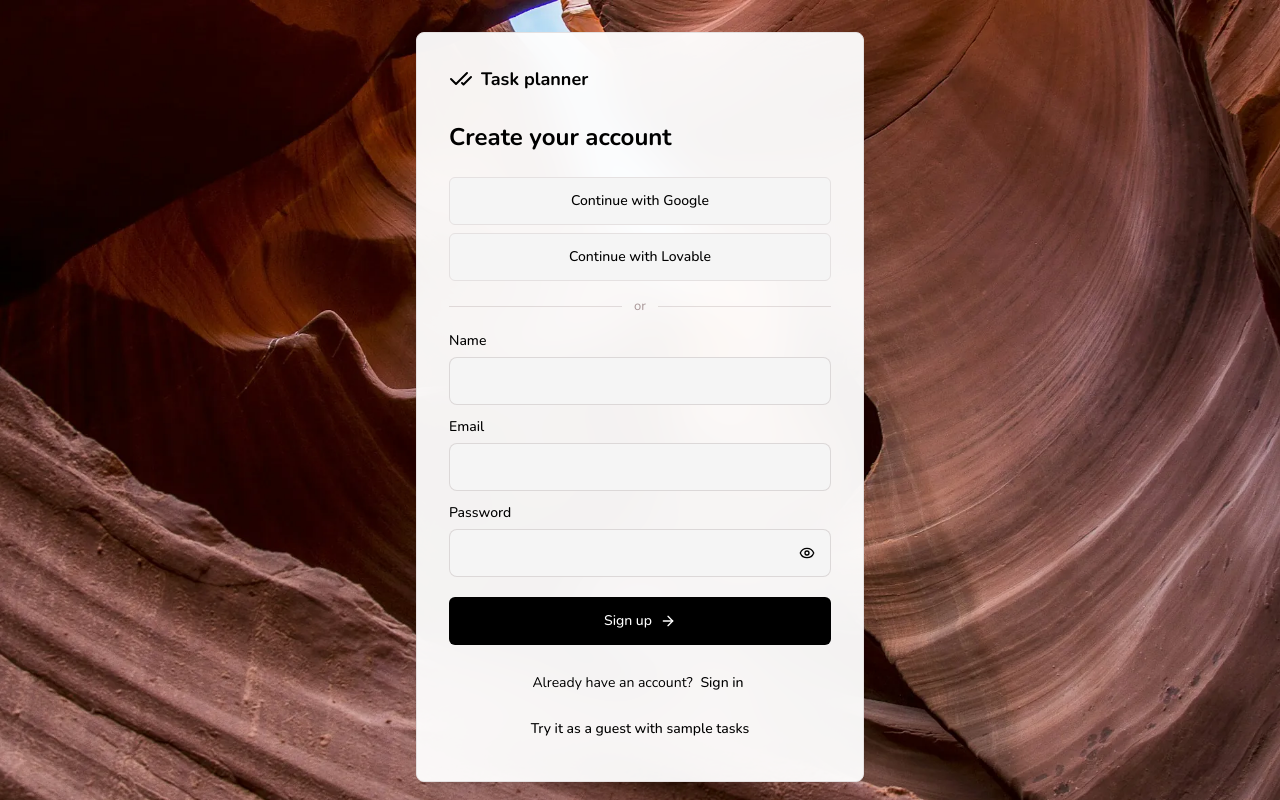
Scenario: account pages › registers a name and waits for email confirmation rather than signing in
Type "Alex" into the field labelled "Name" at (640, 381), box [449,357,831,405]
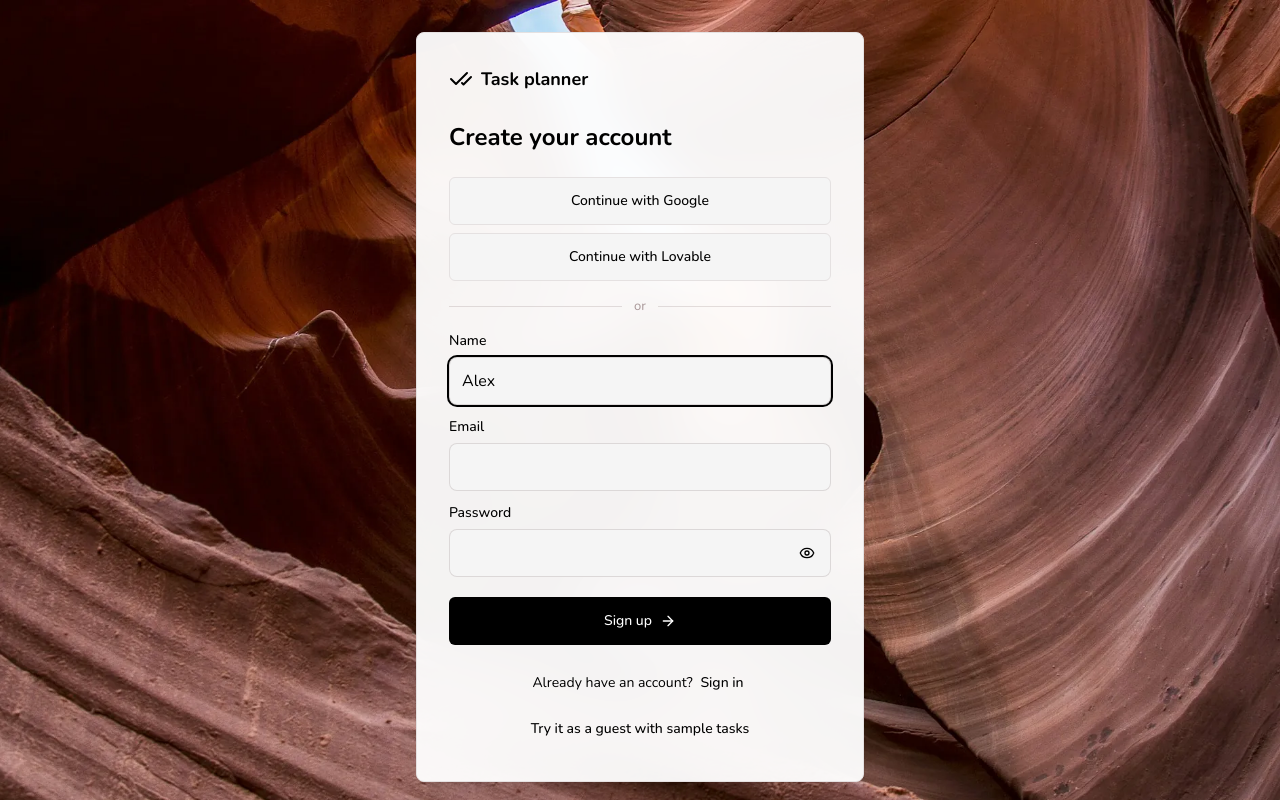
Type "alex@example.com" into the field labelled "Email" at (640, 467), box [449,443,831,491]
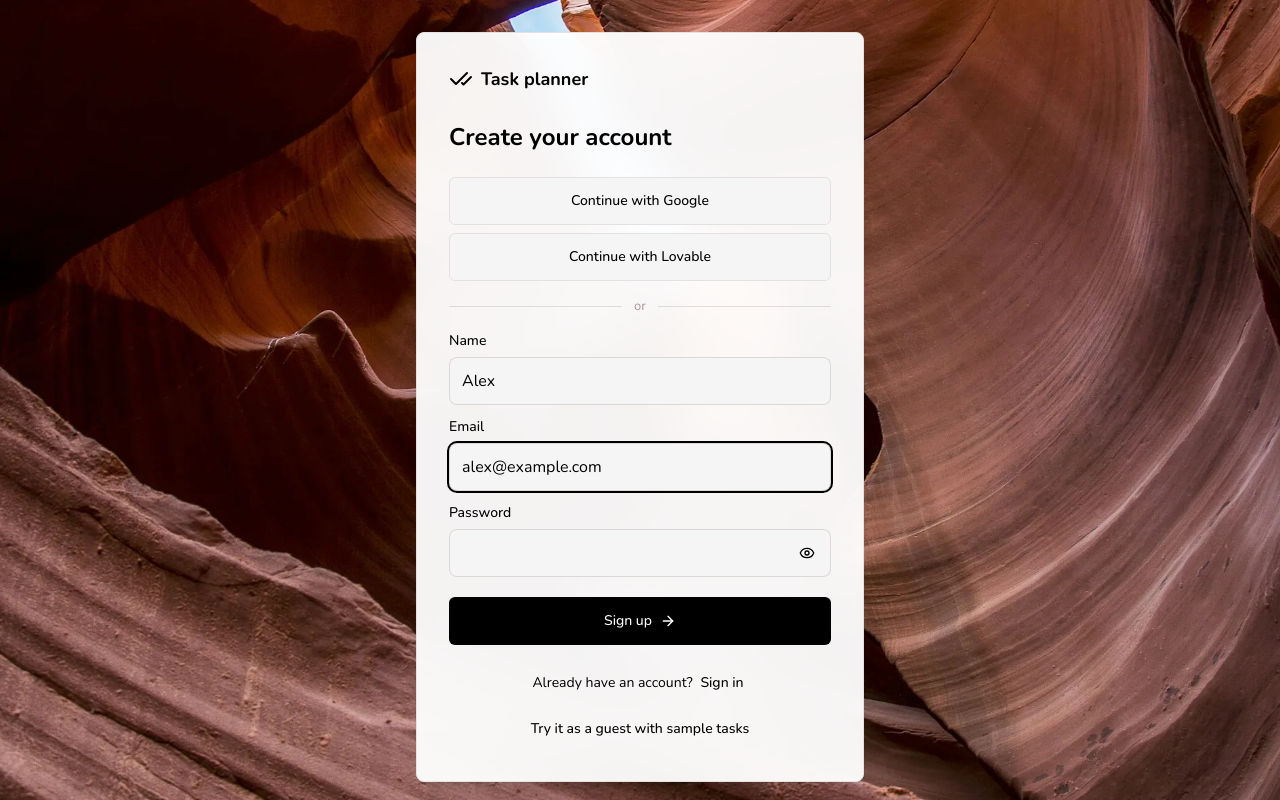
Type "secret123" into the password field labelled "Password" at (640, 553), box [449,529,831,577]
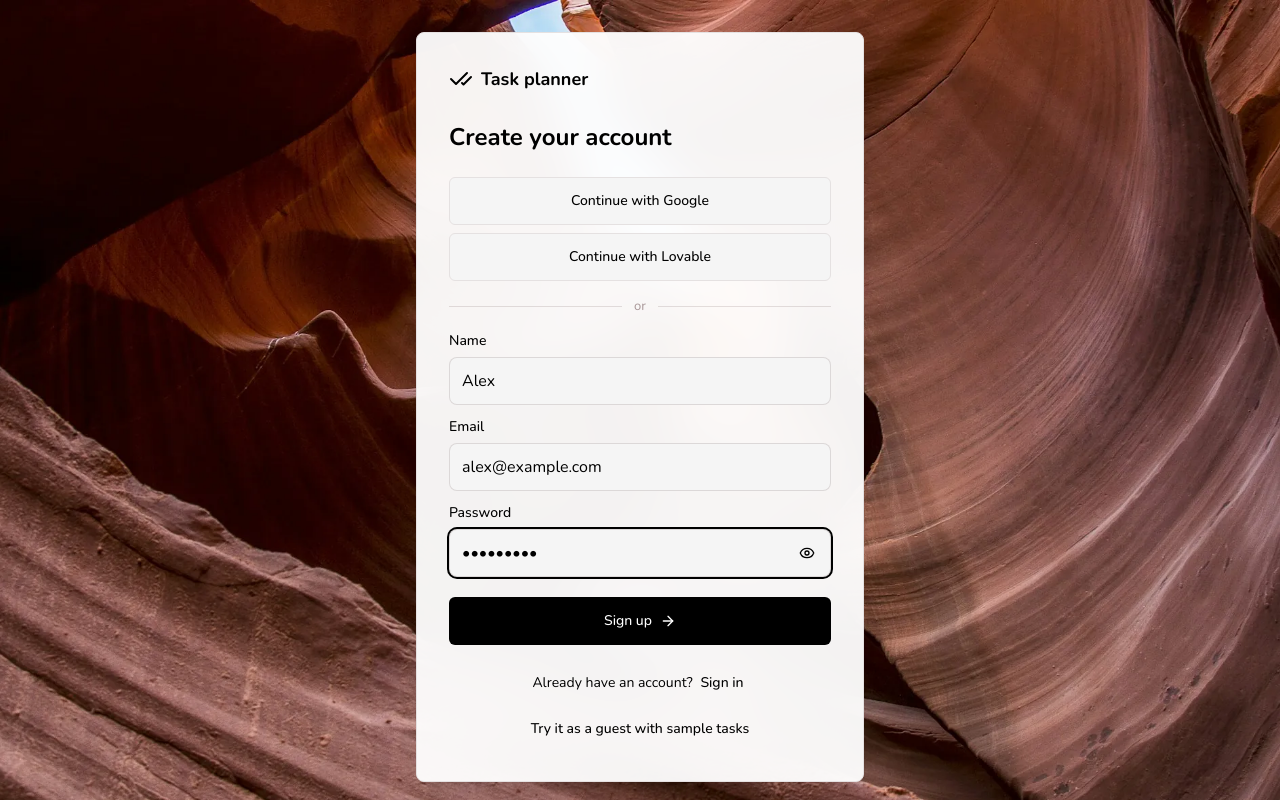
Click the button "Sign up" at (640, 621), box [449,597,831,645]
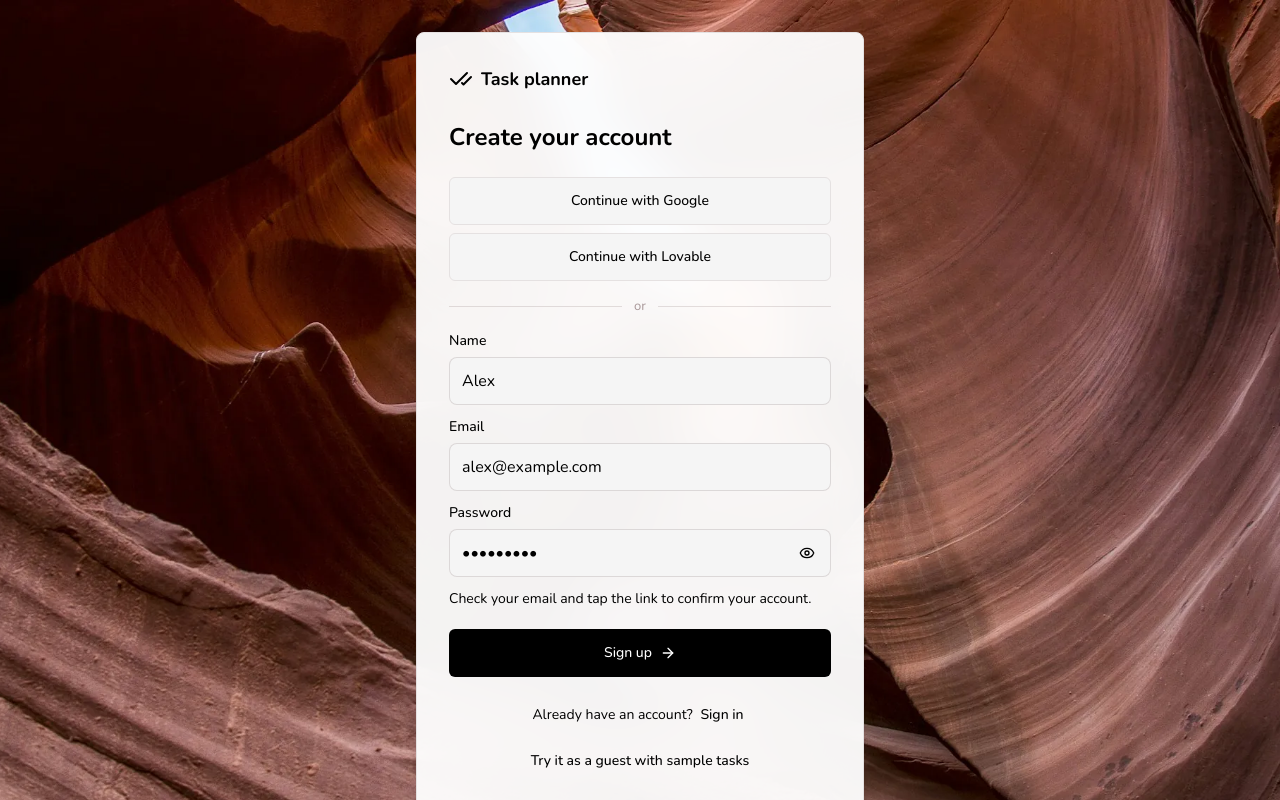
Check: the message "Check your email and tap the link to confirm your account." is shown, box [449,589,831,609]
